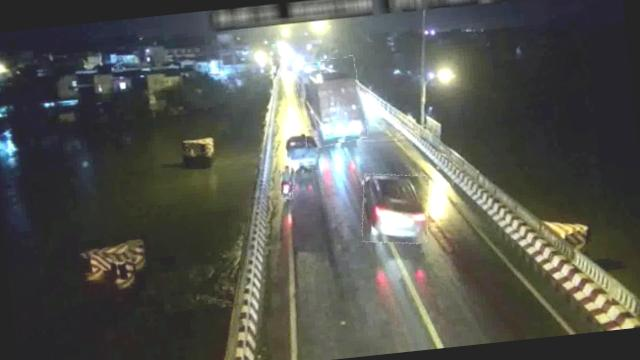Bike: (279, 164, 297, 199)
Car: (358, 170, 433, 248), (285, 128, 319, 174)
Truck: (293, 56, 367, 148)
